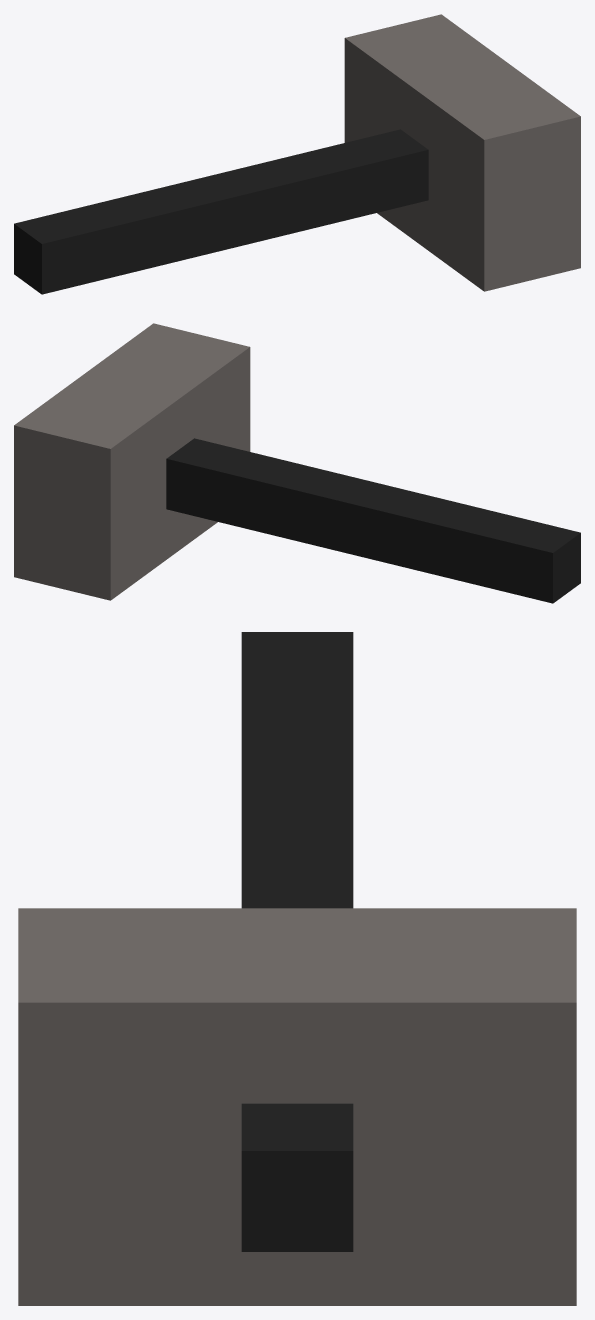
3 views of the same model, one above another, from view 1: azimuth 30°, elevation 25°; view 2: azimuth 150°, elevation 25°; view 3: azimuth 270°, elevation 25° (orthographic). The views are drawn at different scales.
Visible parts, largest first — view 1: Xn; view 2: Xn; view 3: Xn.
Part boxes in pixels (x1,y1,x2,y2): Xn: (14,14,580,294); Xn: (14,323,580,603); Xn: (18,632,576,1305).
Size of the model in its own units: 1.1 by 0.3 by 0.5.
1 material, 1 textured.
